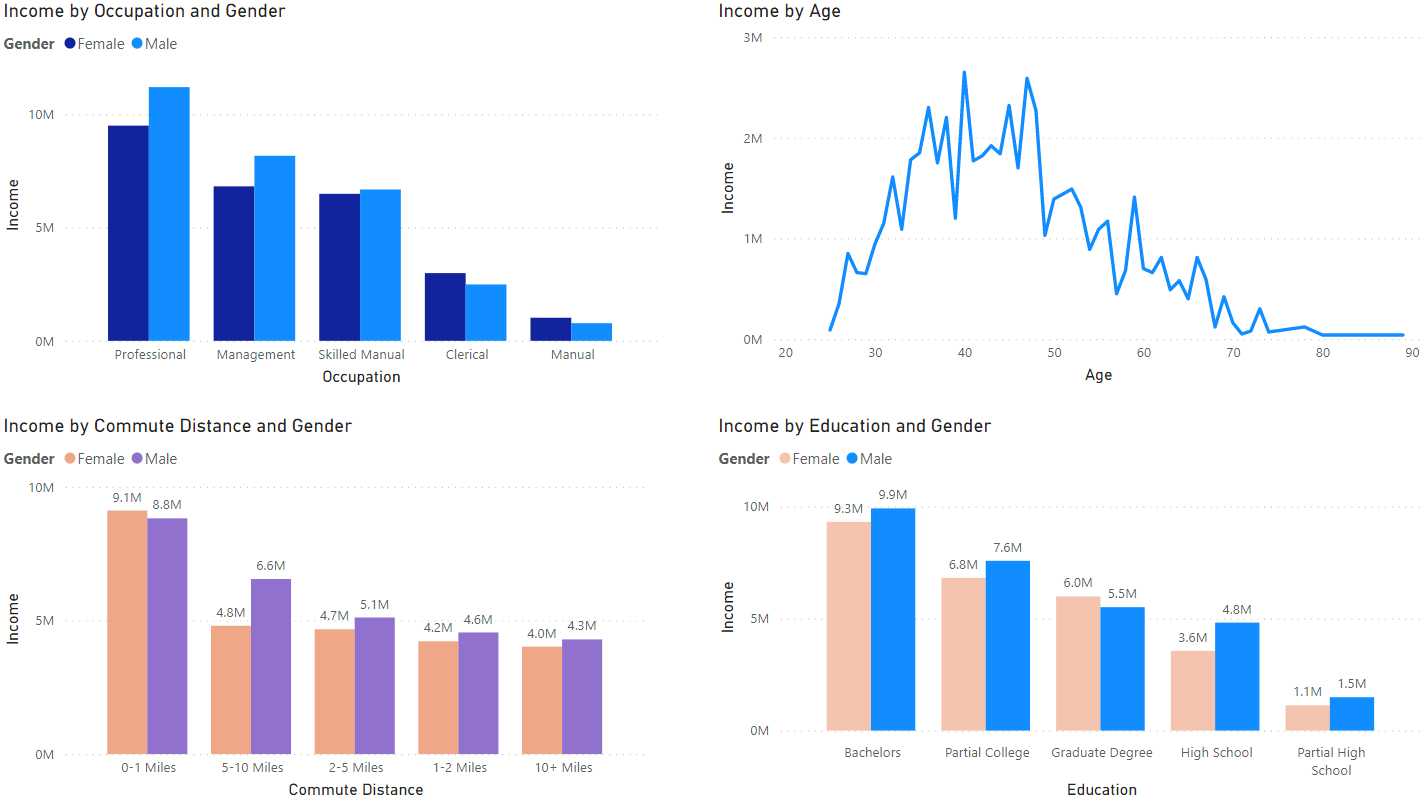

What the dashboard file says about the page in this screenshot:
{"tool":"powerbi","page":{"name":"Page 3","canvas":[1280,720],"ordinal":2},"visuals":[{"type":"clusteredColumnChart","fields":{"Y":["Sum(bike_buyers.Income)"],"Category":["bike_buyers.Commute Distance"],"Series":["bike_buyers.Gender"]},"box":[0,370.8,585.1,348.8],"z":0},{"type":"lineChart","fields":{"Category":["bike_buyers.Age"],"Y":["Sum(bike_buyers.Income)"]},"box":[640,0,640,348.8],"z":1000},{"type":"clusteredColumnChart","fields":{"Y":["Sum(bike_buyers.Income)"],"Category":["bike_buyers.Education"],"Series":["bike_buyers.Gender"]},"box":[640,370.8,640,348.8],"z":2000},{"type":"clusteredColumnChart","fields":{"Y":["Sum(bike_buyers.Income)"],"Category":["bike_buyers.Occupation"],"Series":["bike_buyers.Gender"]},"box":[0,0,594.7,350.2],"z":3000}]}

Visuals, with their boxes in screenshot pixels (x1, y1, x2, y2), scaled from the page's 1280x720 canvas onto the 1423x801 screenshot:
clusteredColumnChart - Sum(bike_buyers.Income) x bike_buyers.Commute Distance: rect(0, 413, 650, 800)
lineChart - bike_buyers.Age x Sum(bike_buyers.Income): rect(712, 0, 1422, 388)
clusteredColumnChart - Sum(bike_buyers.Income) x bike_buyers.Education: rect(712, 413, 1422, 800)
clusteredColumnChart - Sum(bike_buyers.Income) x bike_buyers.Occupation: rect(0, 0, 661, 390)
